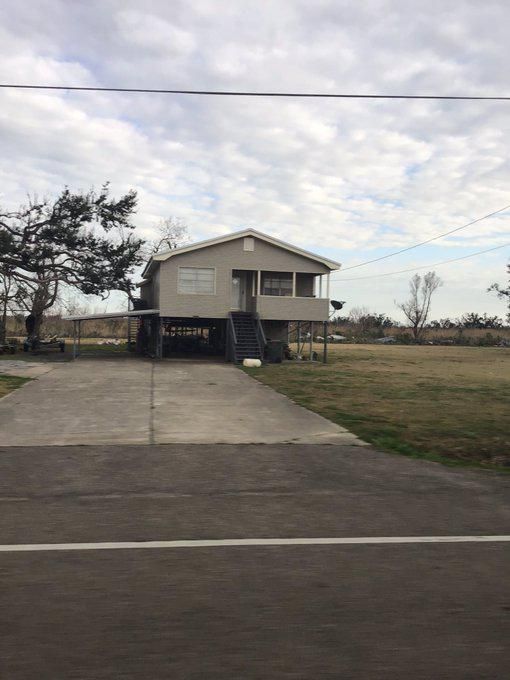affected: (127, 212, 349, 374)
